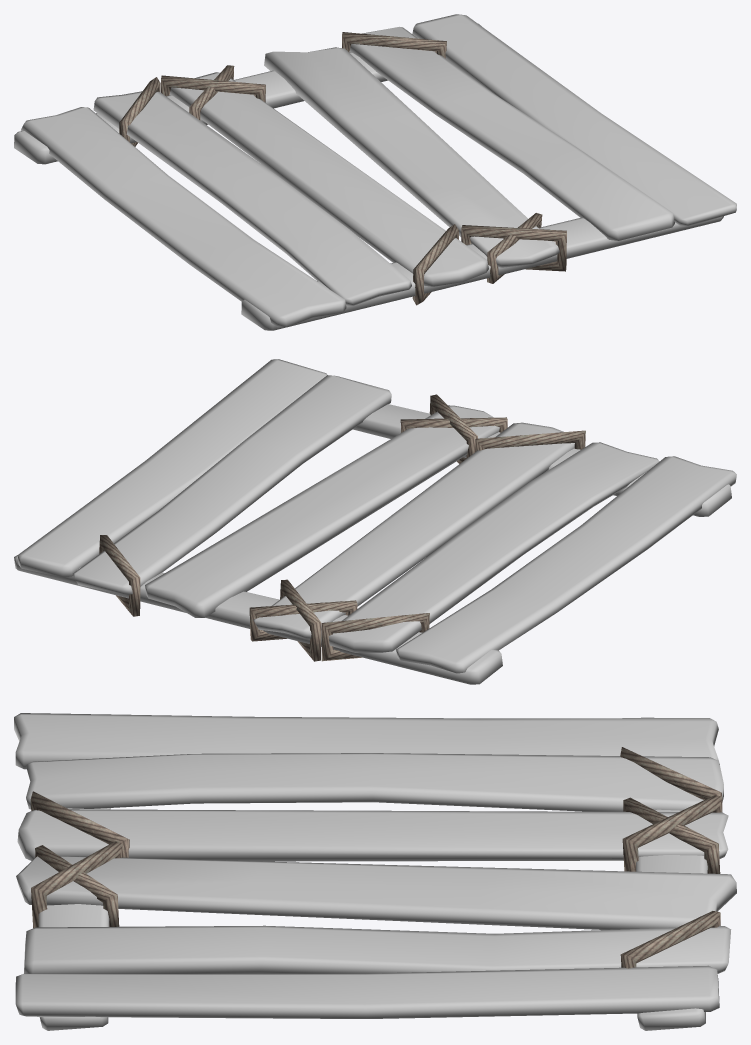
Rendered from WoodenPlateform_C.FBX.
3 views of the same model, one above another, from view 1: azimuth 30°, elevation 25°; view 2: azimuth 150°, elevation 25°; view 3: azimuth 270°, elevation 25° (orthographic). The views are drawn at different scales.
Parts seen in each view (by area): view 1: WoodenPlateform_C; view 2: WoodenPlateform_C; view 3: WoodenPlateform_C.
Part boxes in pixels (x1,y1,x2,y2): WoodenPlateform_C: (14, 14, 736, 330); WoodenPlateform_C: (14, 359, 736, 684); WoodenPlateform_C: (14, 713, 736, 1030).
Bounding box in the file's own units: 297 × 24.29 × 304.
